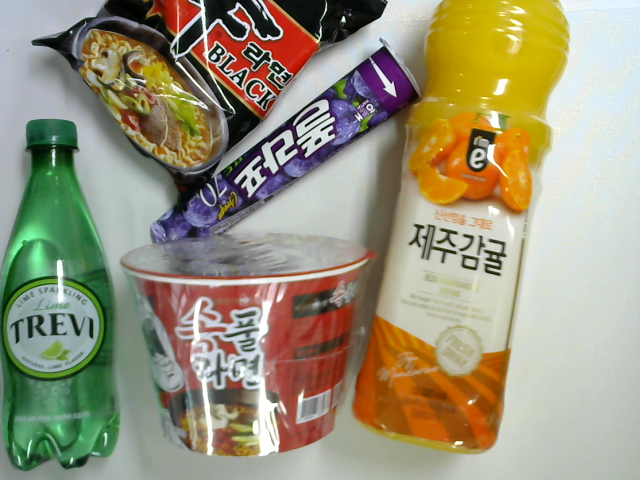Hejangpul: (122, 230, 384, 459)
Jeju_Tangerine_1.5L: (349, 1, 577, 457)
Polapo_Grape: (143, 37, 428, 265)
Sinramen_Black: (27, 1, 397, 215)
Treviraim_500ml: (1, 109, 122, 480)
